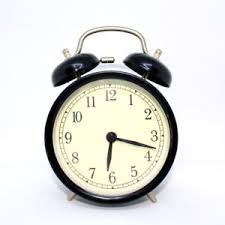alarm_clock: (44, 28, 176, 203), (48, 28, 176, 203)
